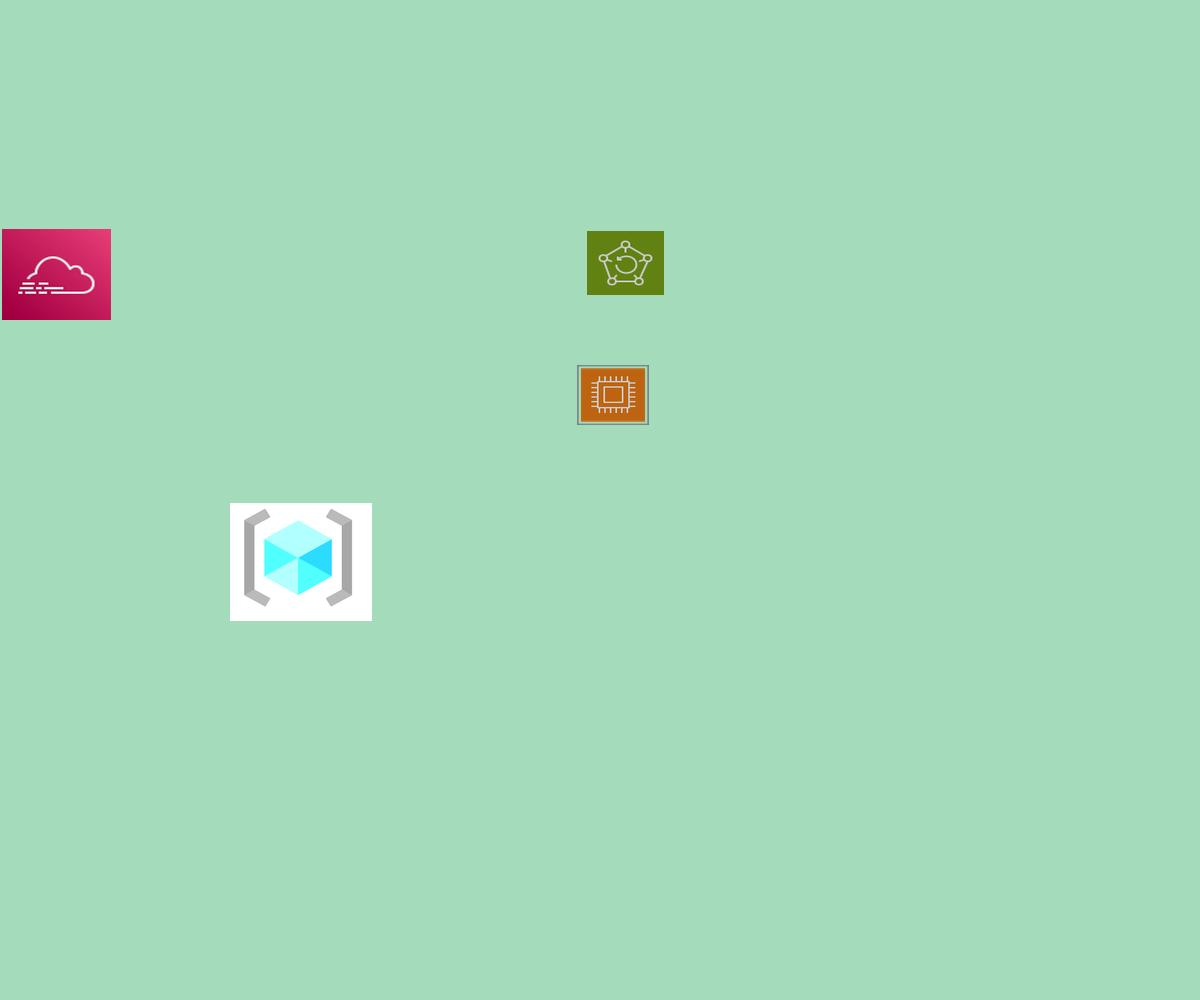AWS-Backup: (587, 231, 664, 295)
AWS-Category_Compute: (577, 365, 649, 425)
AWS-CloudTrail: (2, 229, 111, 320)
Azure_resource_group: (230, 503, 372, 621)
